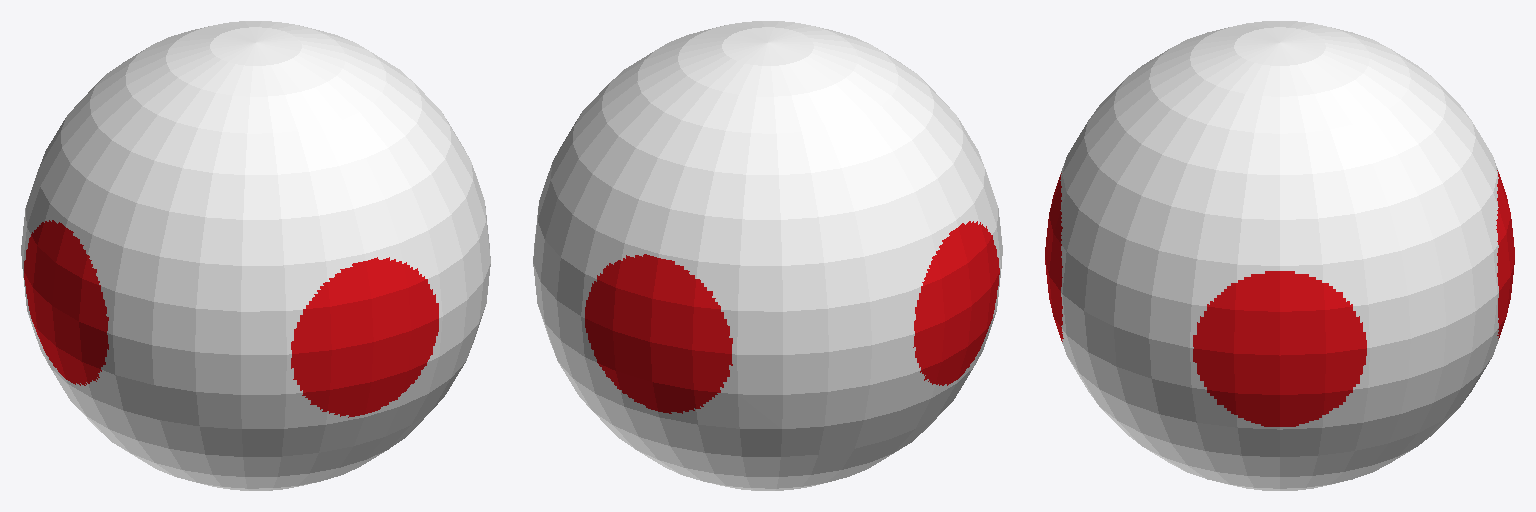
3 views of the same model, side by side, from view 1: azimuth 30°, elevation 25°; view 2: azimuth 150°, elevation 25°; view 3: azimuth 270°, elevation 25° (orthographic).
Visible parts, largest first — view 1: WhiteBall_Sphere; view 2: WhiteBall_Sphere; view 3: WhiteBall_Sphere.
Part boxes in pixels (left/top/right/bottom): WhiteBall_Sphere: left=21, top=21, right=490, bottom=490; WhiteBall_Sphere: left=533, top=21, right=1002, bottom=490; WhiteBall_Sphere: left=1045, top=21, right=1514, bottom=490.
Bounding box in the file's own units: 0.2 × 0.2 × 0.2.
Materials: 1 (1 with a texture image).